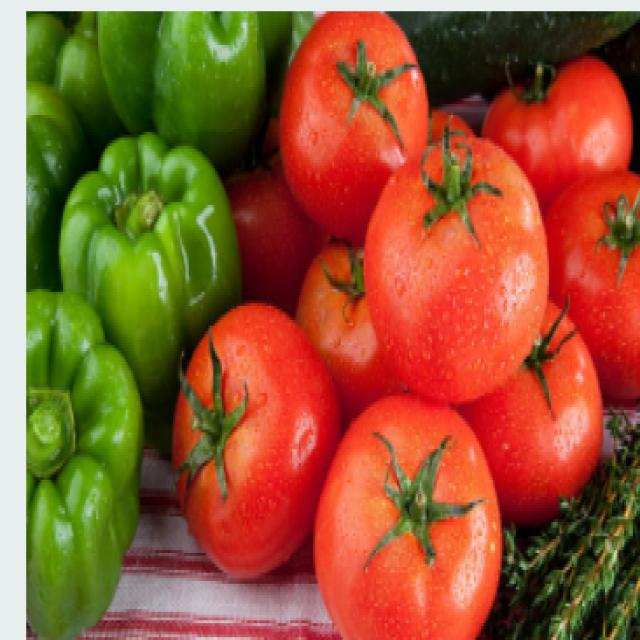Tomato: (359, 124, 551, 394), (310, 380, 498, 640), (164, 313, 332, 571), (463, 267, 602, 509), (287, 16, 420, 218)
